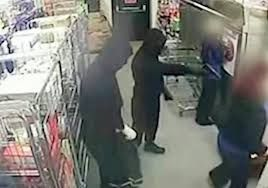gun: (178, 58, 206, 80)
